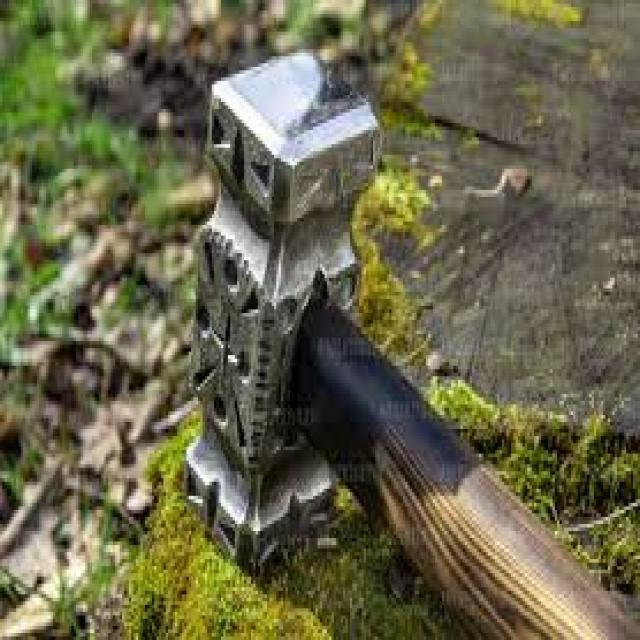hammer: (184, 52, 640, 640)
